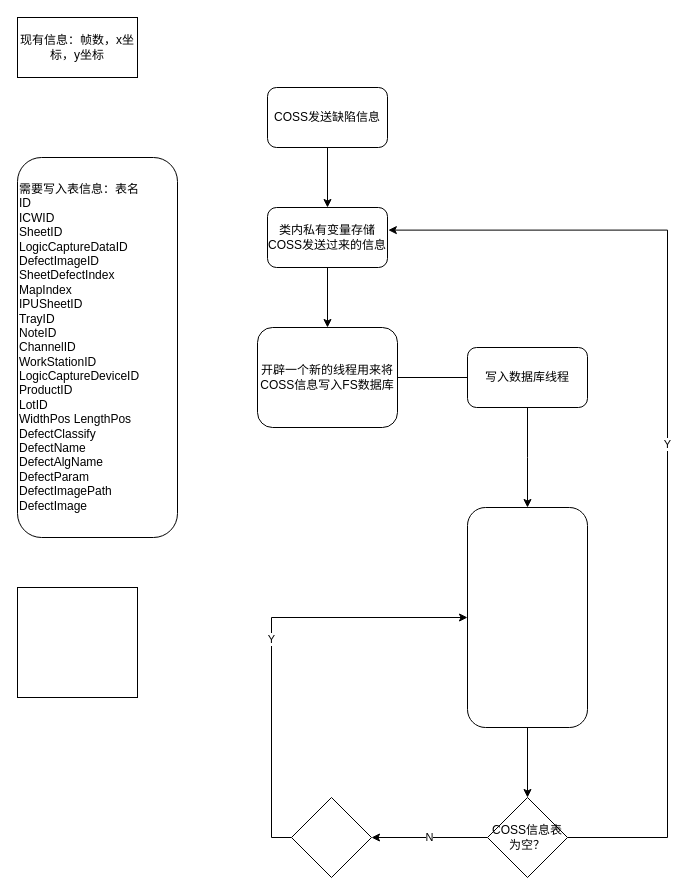
The diagram is 693 pixels wide and 895 high, and some of its shapes have lost their labels. Each missing label, with the centre of its shape:
"写入lotinfo表，添加detectmapinfo表，并写入信息，写入icw_state表，判断实时，写入lot_detectinfo历史信息" belongs at point (527, 617).
"是否切卷？" belongs at point (331, 837).
"需要写入的表： lotdetectinfo、 lotinfo_8、 icw_state、 defectmapinfo" belongs at point (77, 642).
